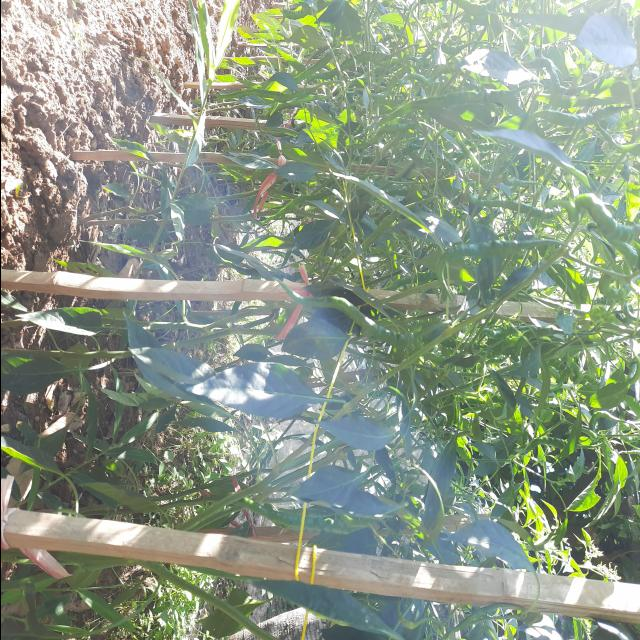sehat: (192, 365, 312, 419), (309, 411, 409, 452), (288, 464, 362, 508), (274, 316, 344, 360)
